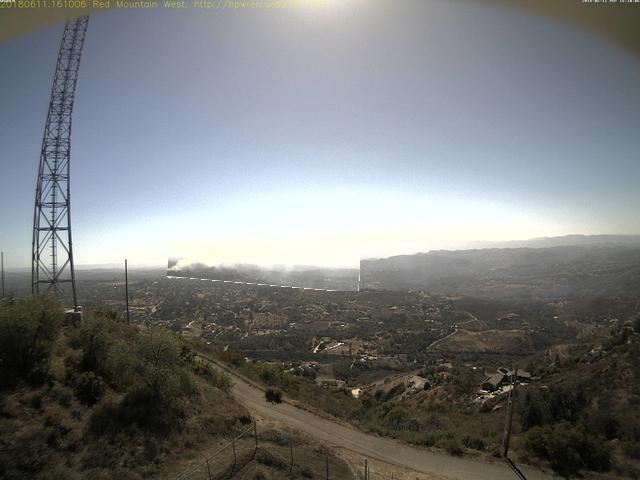smoke: (169, 244, 362, 289)
